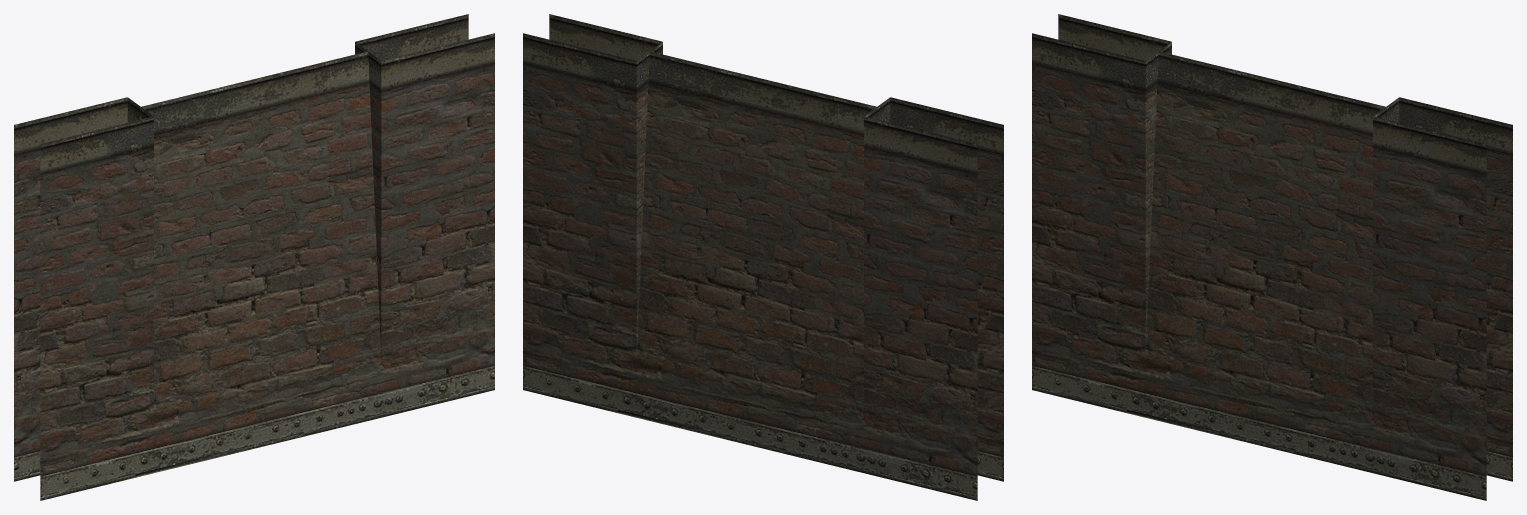
The model's file is wall_hr_1_t_1.obj.
The picture shows the model from 3 angles, left to right: view 1: azimuth 30°, elevation 25°; view 2: azimuth 150°, elevation 25°; view 3: azimuth 330°, elevation 25°; orthographic projection.
Visible parts, largest first — view 1: wall_hr_1_t_1; view 2: wall_hr_1_t_1; view 3: wall_hr_1_t_1.
Boxes of the visible parts, <box> form: wall_hr_1_t_1: <box>14,14,494,500</box>; wall_hr_1_t_1: <box>523,14,1003,500</box>; wall_hr_1_t_1: <box>1032,14,1512,500</box>.
Size of the model in its own units: 4 by 3 by 0.4.
